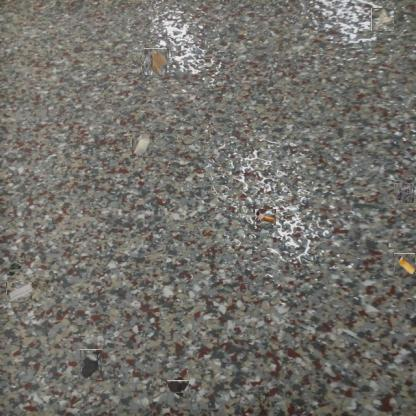dirty: (143, 49, 168, 75), (371, 7, 394, 31), (6, 281, 32, 301), (394, 253, 416, 274), (131, 135, 152, 155), (394, 183, 414, 203), (256, 209, 278, 225)
liquid: (80, 349, 102, 380), (170, 378, 187, 396)
